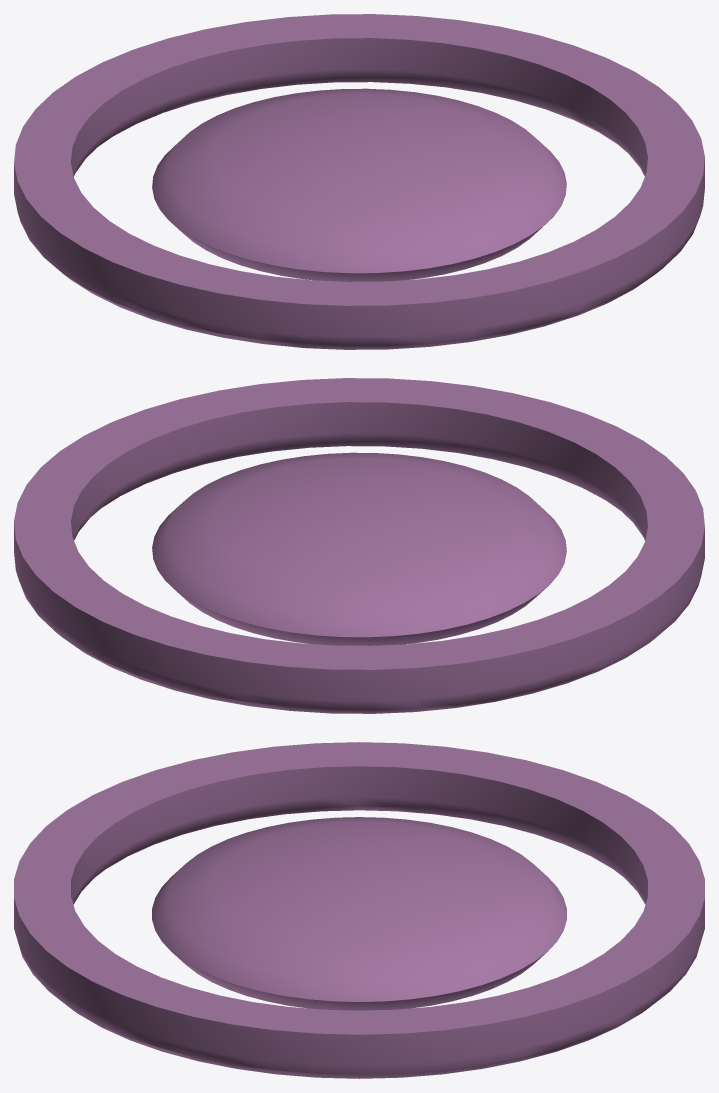
File: Spawn.fbx
3 renders of one model, top to bottom at view 1: azimuth 30°, elevation 25°; view 2: azimuth 150°, elevation 25°; view 3: azimuth 270°, elevation 25°, orthographic.
Visible parts, largest first — view 1: pTorus1, pCylinder1; view 2: pTorus1, pCylinder1; view 3: pTorus1, pCylinder1.
Boxes of the visible parts, left/top/right/bottom form: pTorus1: left=14, top=14, right=704, bottom=349; pCylinder1: left=152, top=88, right=566, bottom=281; pTorus1: left=14, top=378, right=704, bottom=713; pCylinder1: left=152, top=452, right=566, bottom=645; pTorus1: left=14, top=742, right=704, bottom=1078; pCylinder1: left=152, top=817, right=566, bottom=1010.
Bounding box in the file's own units: 33.54 × 4.46 × 33.47.
